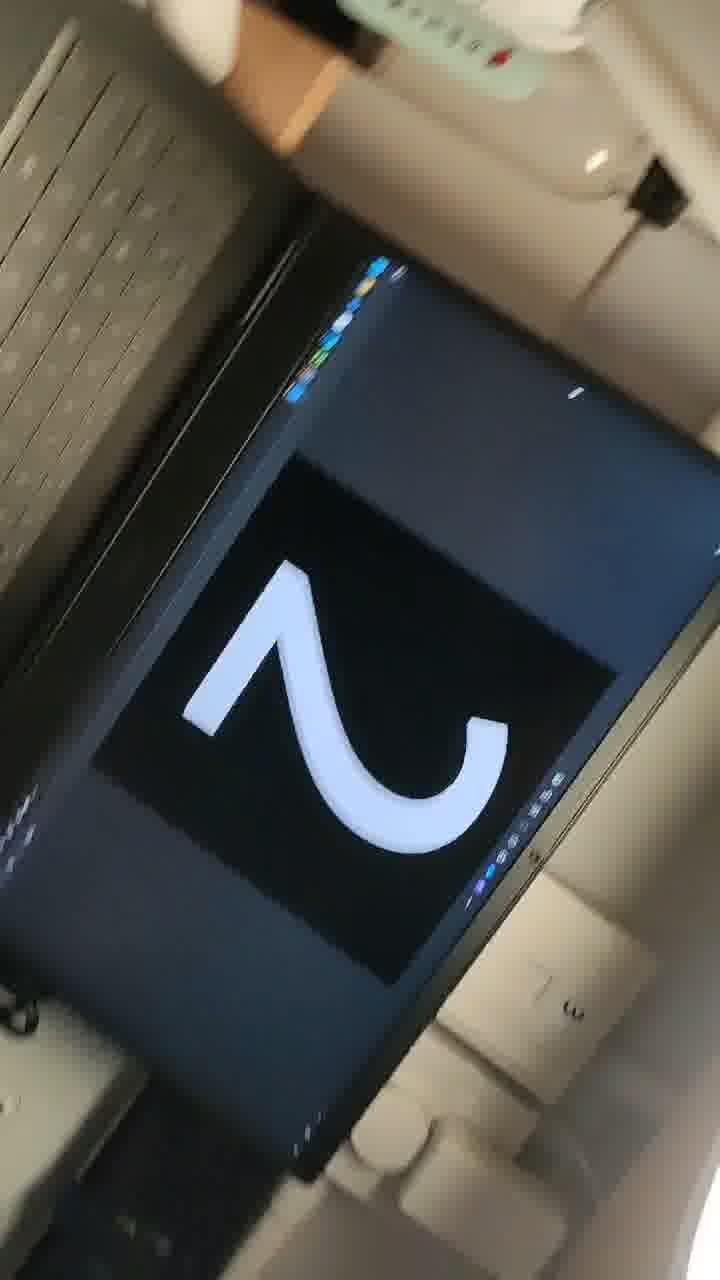two: (178, 563, 570, 971)
